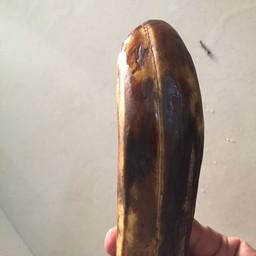Bad_banana: (113, 12, 206, 253)
